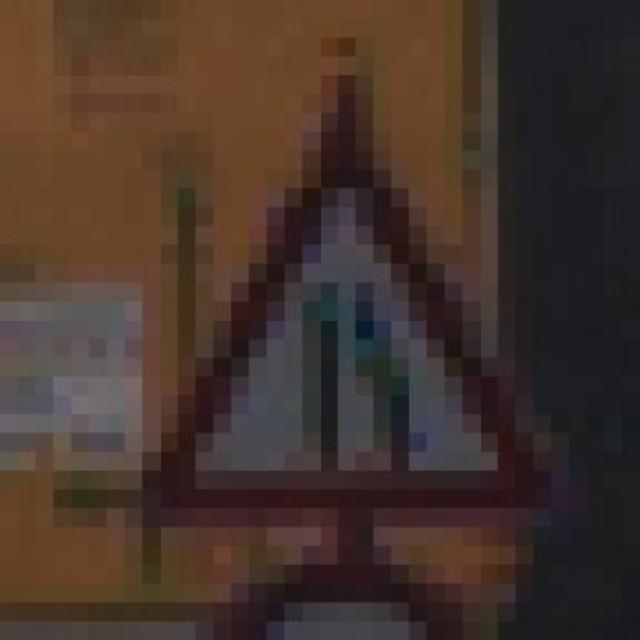-Road narrows on right: (106, 132, 569, 546)
